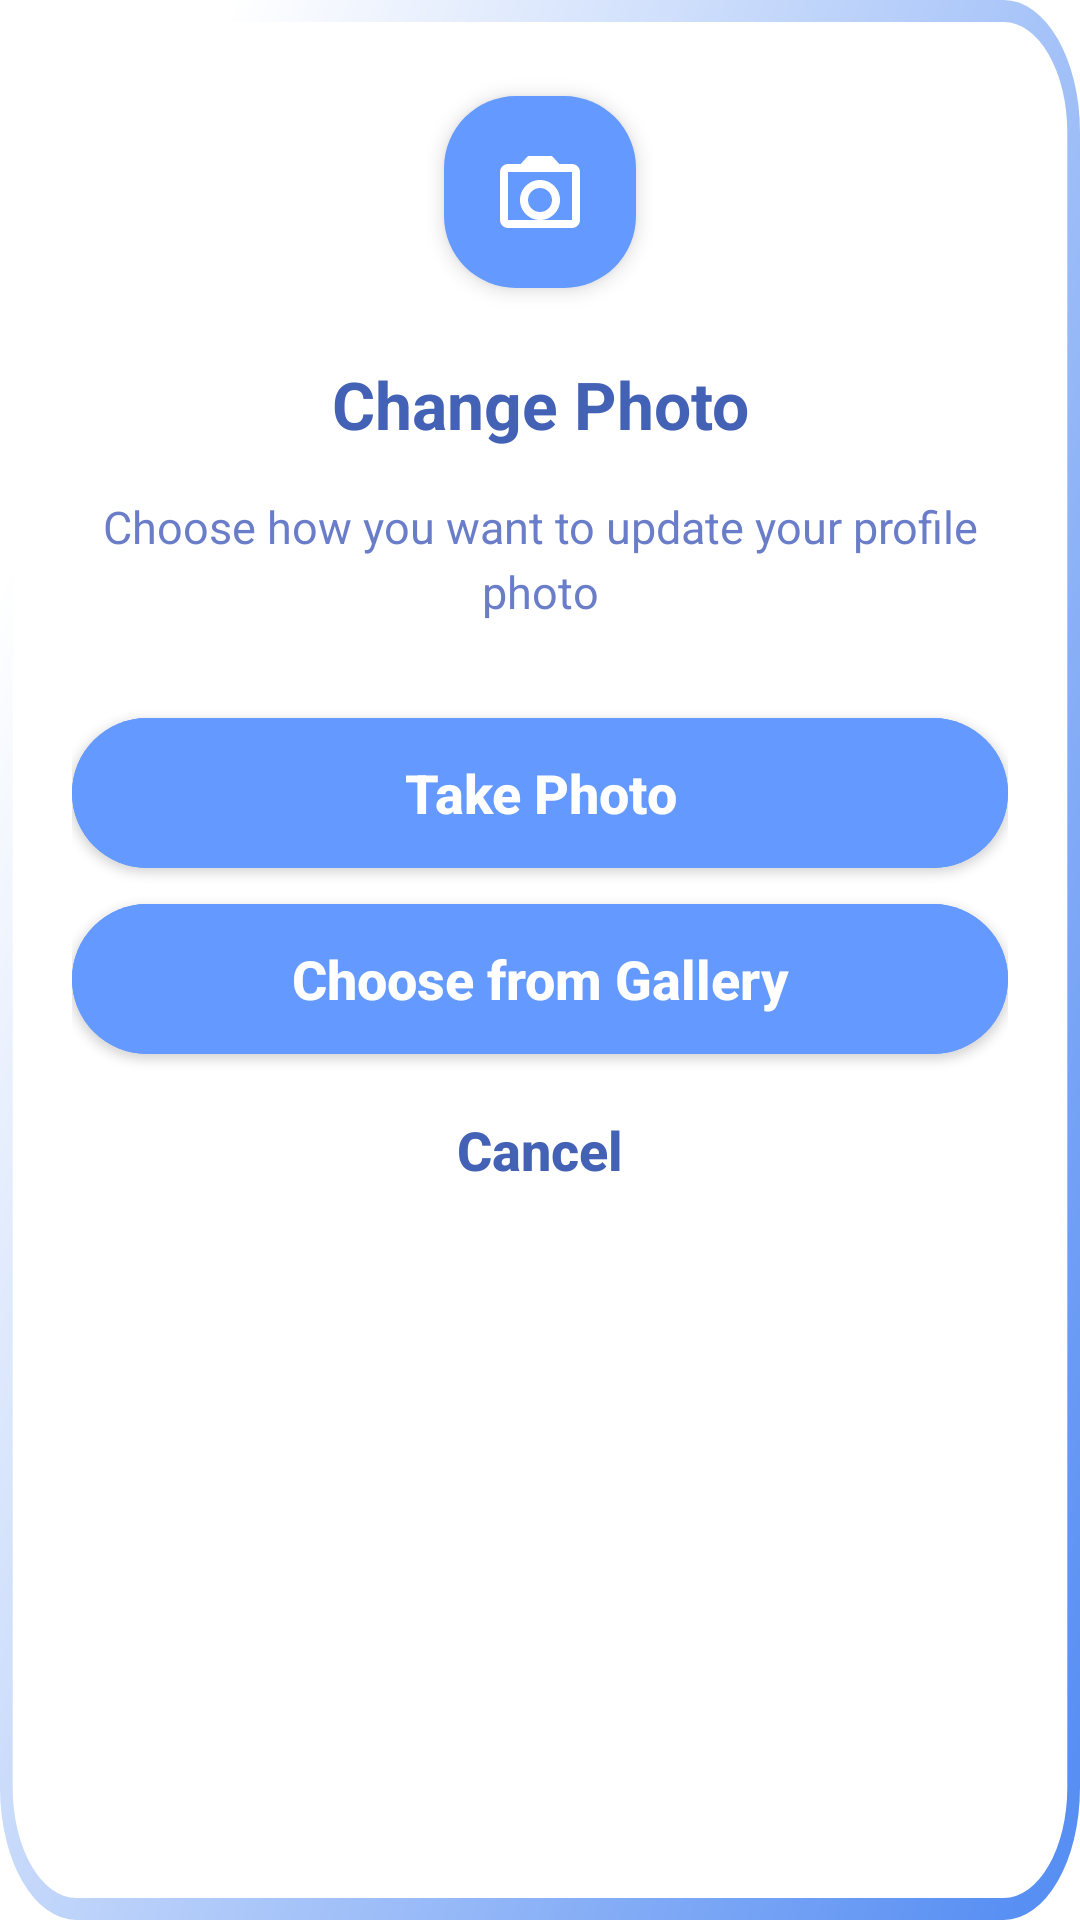

Point at icon controls on the screen. Image size 1080 x 1920, points as (x,y).
add photo: (540,192)
